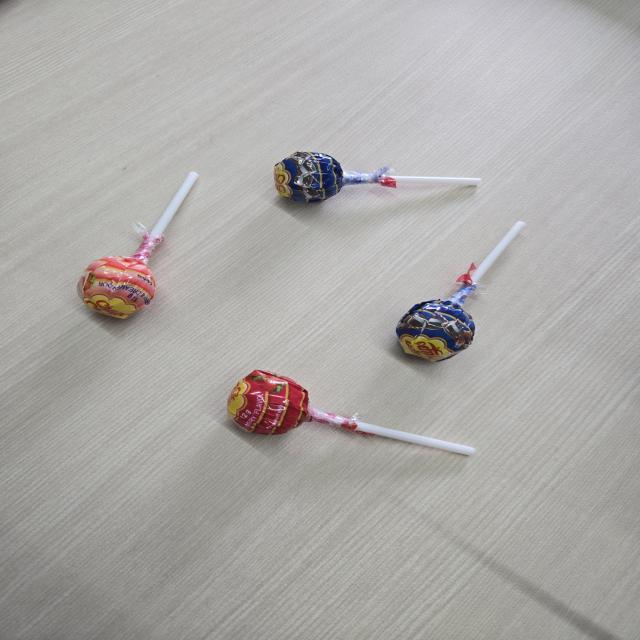lollipop: (225, 370, 482, 462), (76, 166, 205, 326), (395, 215, 532, 365), (271, 146, 487, 210)
